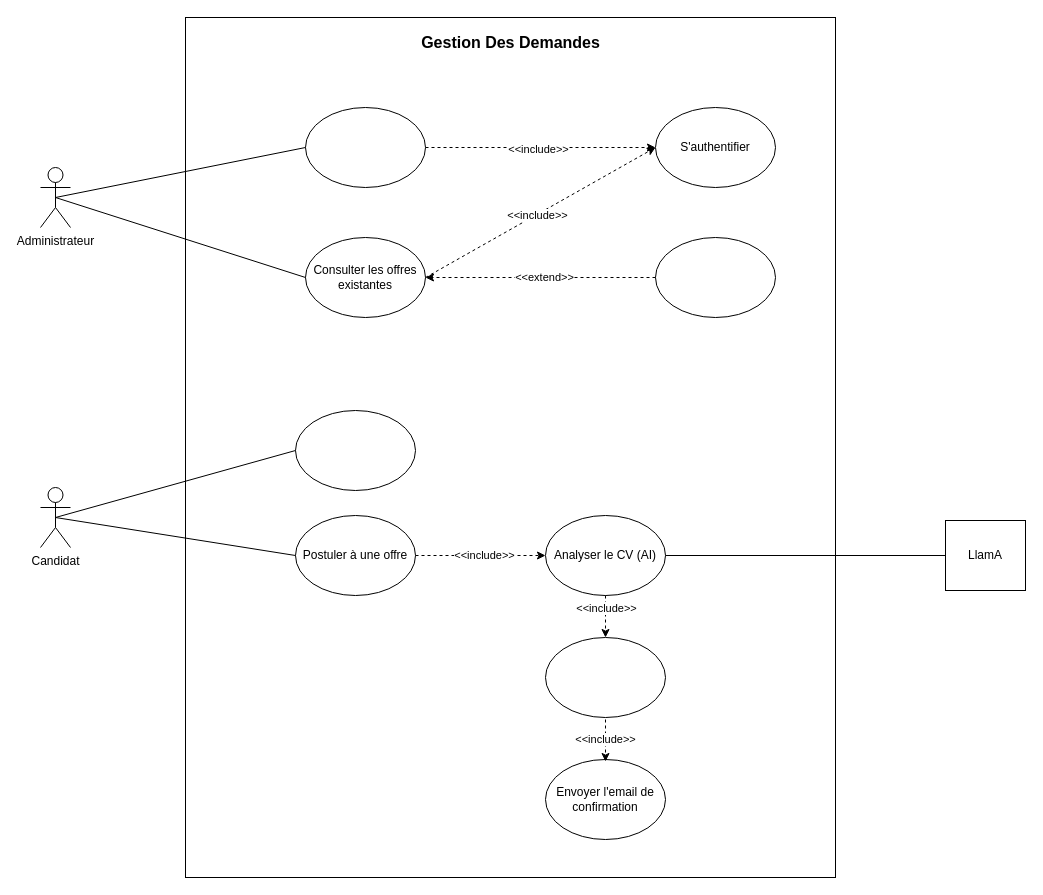
Image size: 1043x895. Some labels were removed from this diagram. Each missing label, with the centre of its shape:
Ajouter une offre: point 365,147
Calculer le score du candidat: point 605,677
Consulter les Candidats postulée: point 715,277
Consulter les offres: point 355,450
